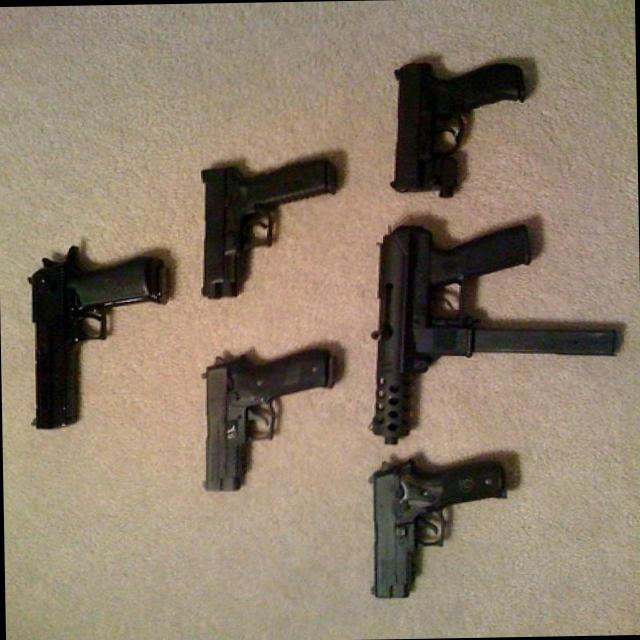handgun: (22, 243, 168, 432), (195, 154, 336, 302), (381, 58, 530, 198), (195, 348, 335, 491), (364, 456, 504, 598)
